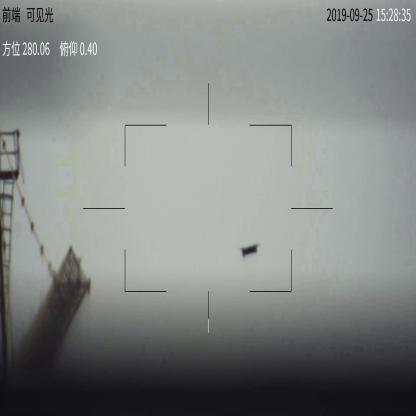uav: (241, 245, 258, 256)
